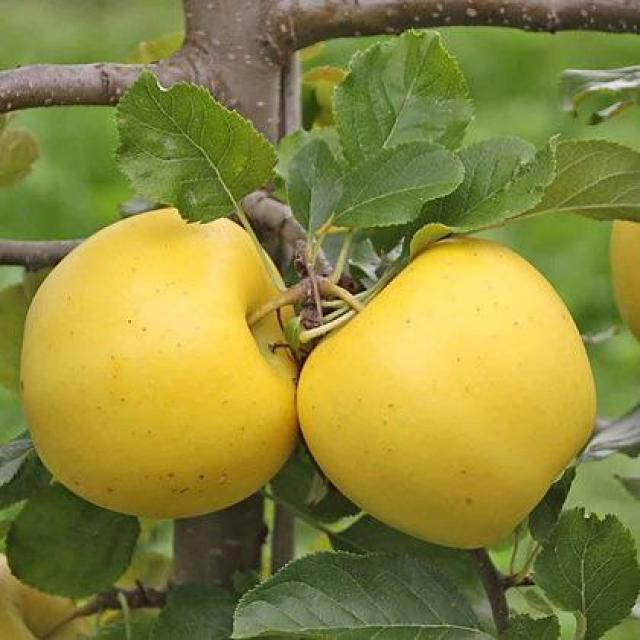Fresh Apple: (300, 222, 583, 535), (35, 215, 280, 528)
